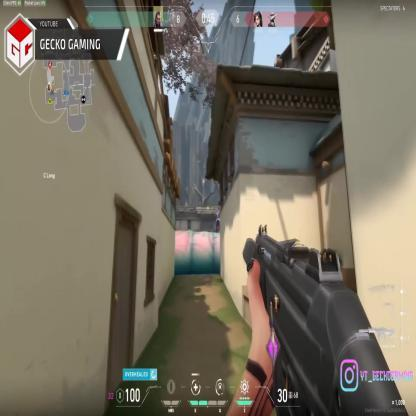enemy: (216, 206, 221, 232)
enemy_head: (216, 207, 220, 212)
